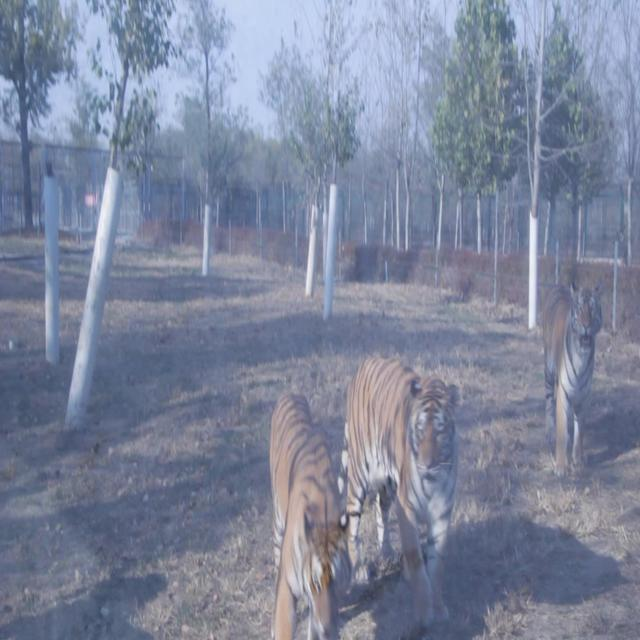tiger: (338, 355, 461, 630), (267, 391, 349, 639), (540, 279, 603, 478)
